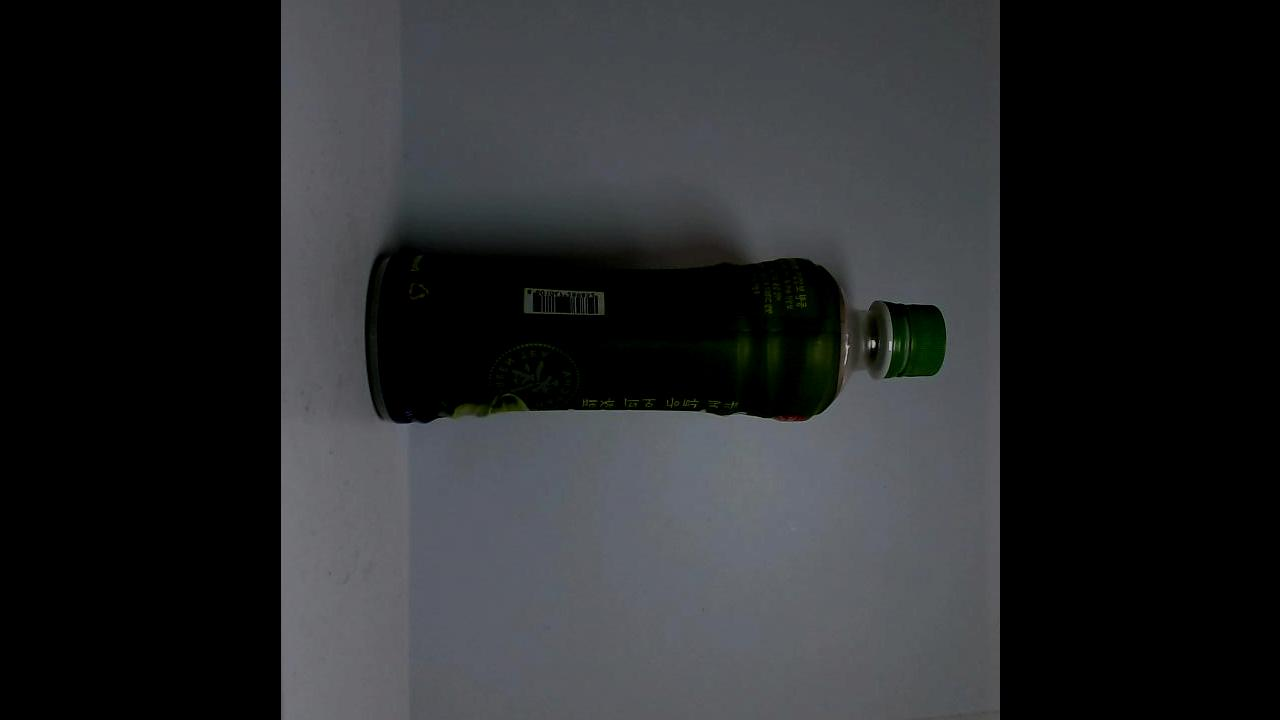bottle: (358, 238, 961, 439)
